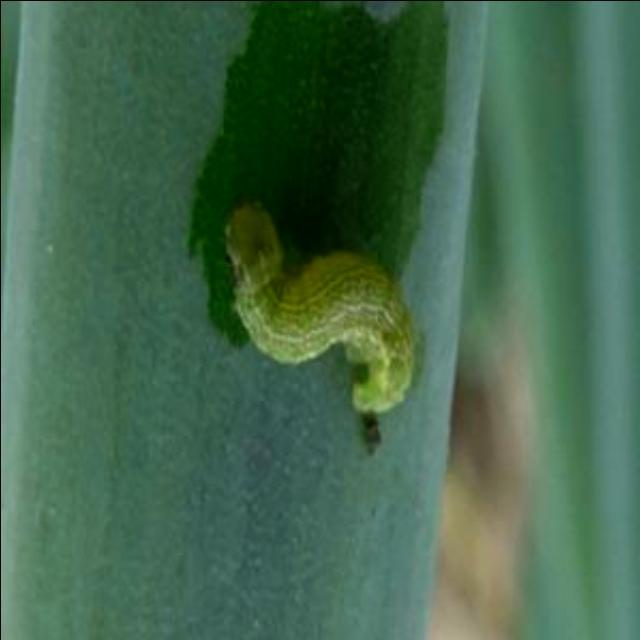Beet armyworm: (172, 153, 476, 469)
